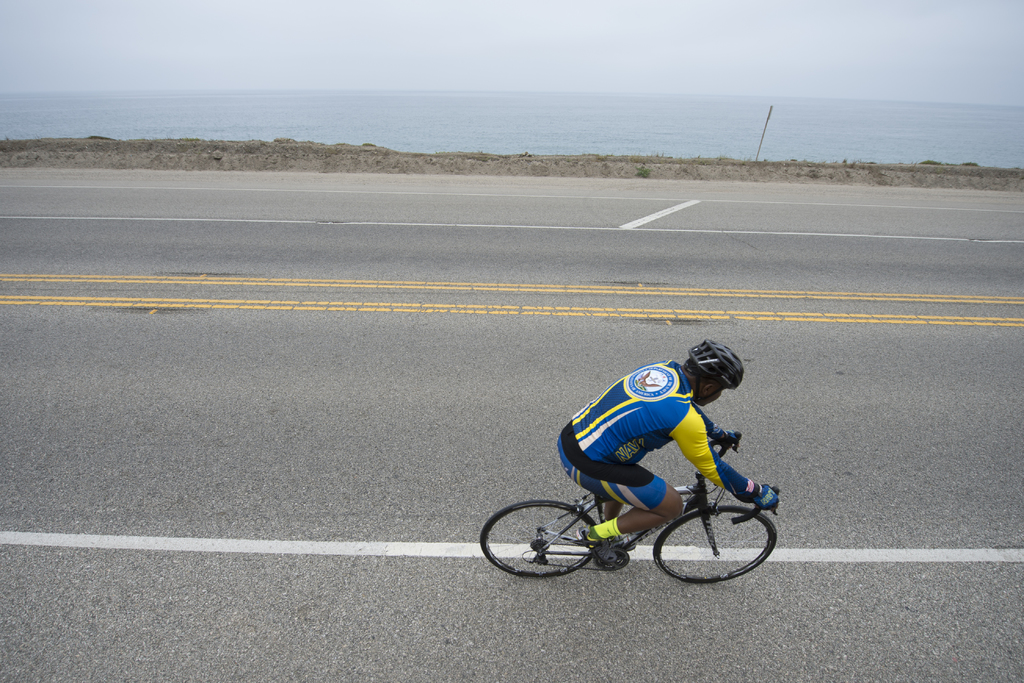Bike: (452, 416, 789, 600)
